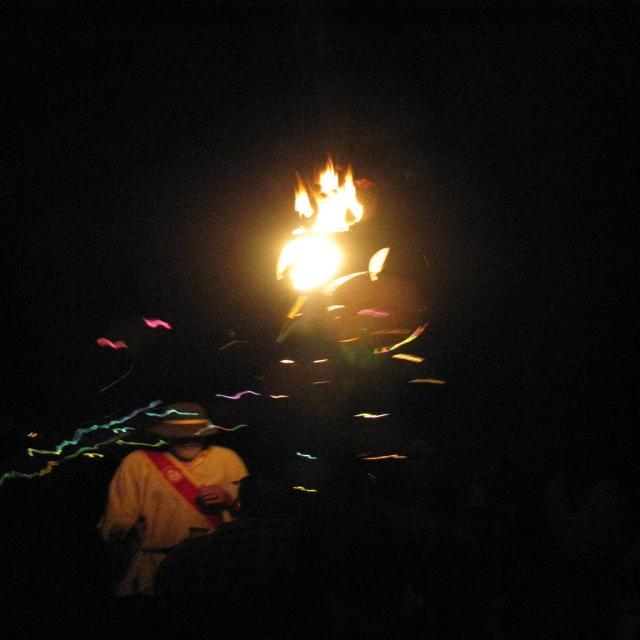Fire: (261, 151, 399, 303)
